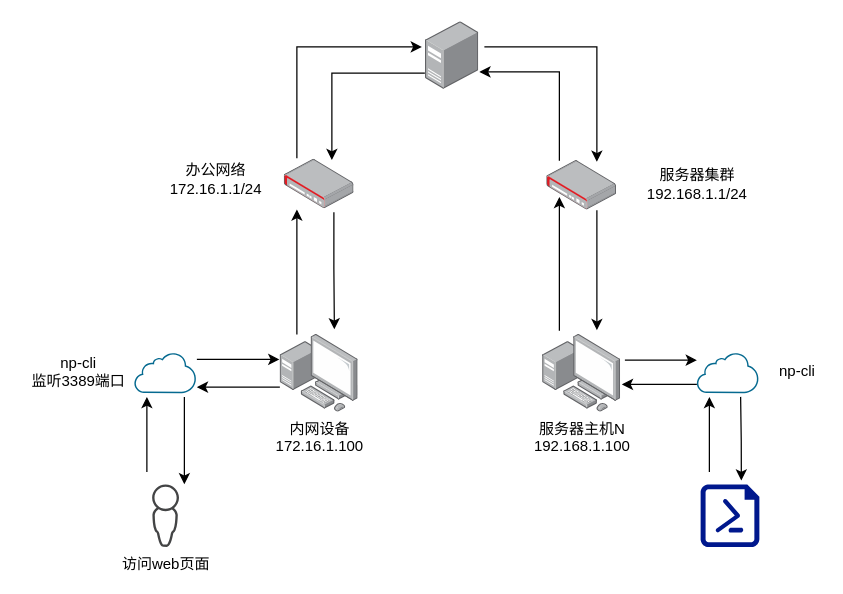
This 843x594 diagram has some shape labels left out. Each missing label, with the box of its shape:
/bin/bash: (700, 484, 759, 546)
np-svr 服务器集群管控机 10.0.1.1: (425, 21, 478, 89)
